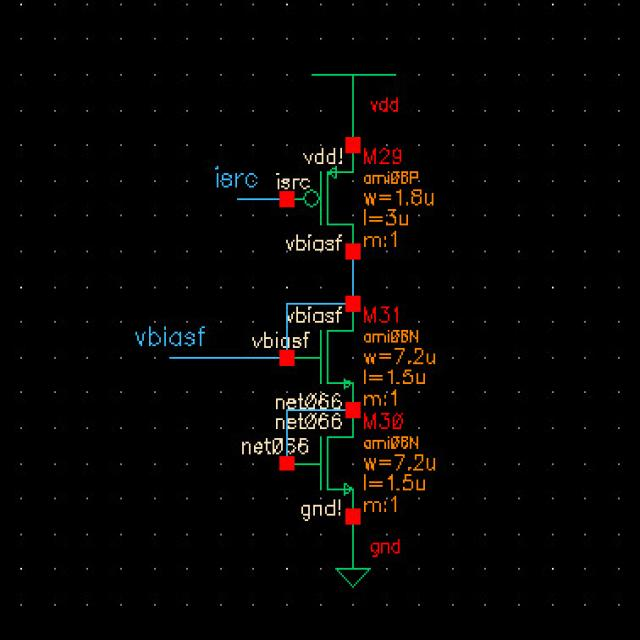nmos: (280, 401, 361, 524), (278, 294, 359, 416)
pmos: (278, 137, 362, 261)
